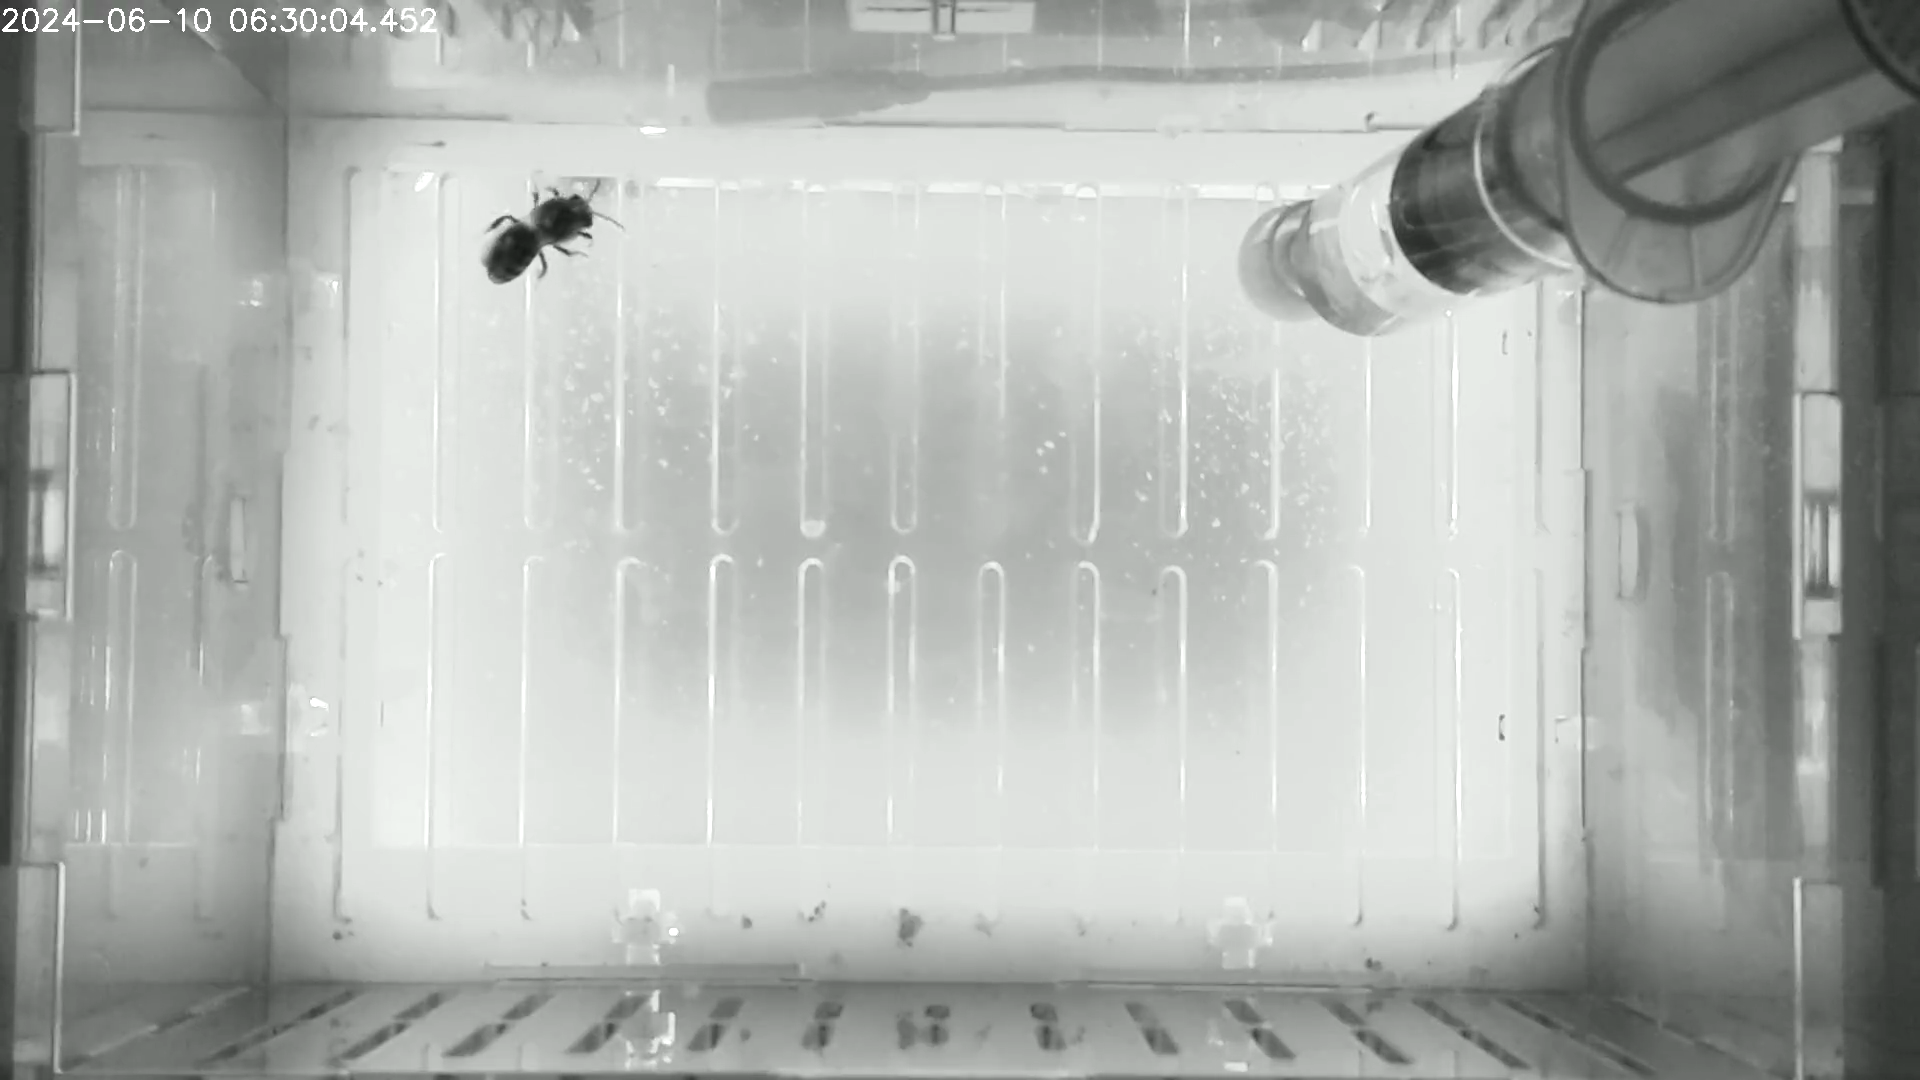bee: (465, 171, 632, 297)
feeder: (1293, 86, 1569, 343)
